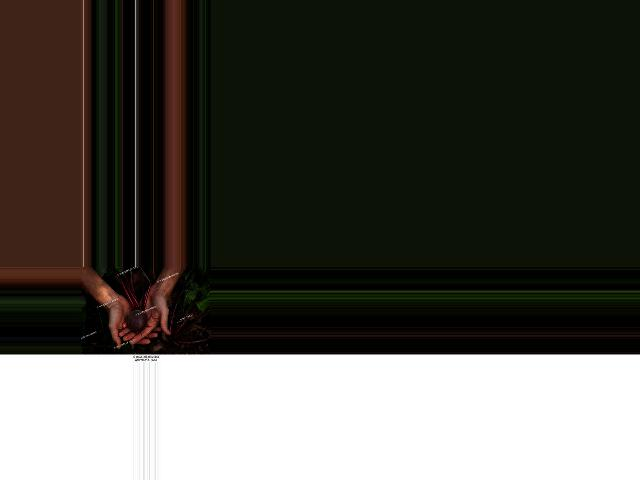beet: (113, 269, 152, 334)
